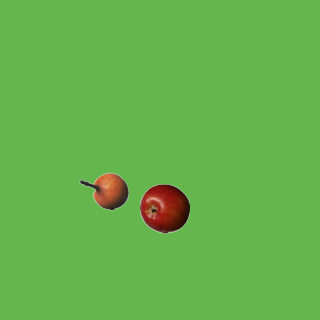Apple Braeburn: (139, 183, 189, 233)
Granadilla: (78, 166, 128, 216)
